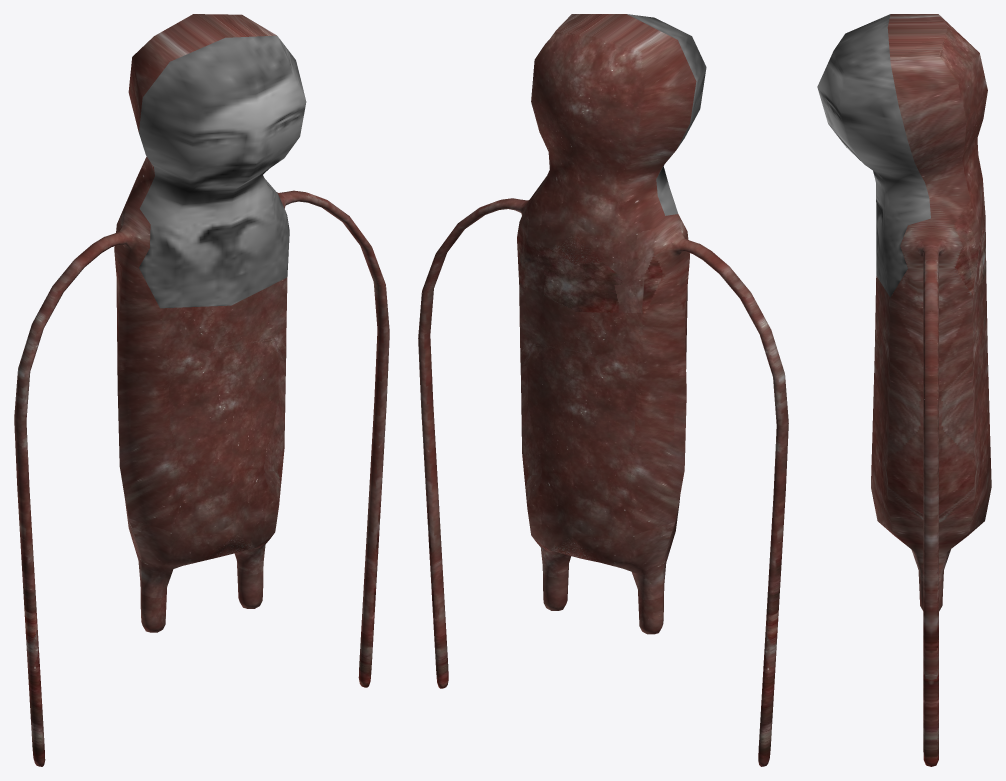
The model's file is монстр1v1.glb.
3 renders of one model, left to right at view 1: azimuth 30°, elevation 25°; view 2: azimuth 150°, elevation 25°; view 3: azimuth 270°, elevation 25°, orthographic. The views are drawn at different scales.
Parts seen in each view (by area): view 1: монстр1v1; view 2: монстр1v1; view 3: монстр1v1.
Boxes of the visible parts, box(x1,y1,x2,y2) form: монстр1v1: box(14, 14, 389, 766); монстр1v1: box(418, 14, 788, 766); монстр1v1: box(817, 14, 991, 766).
Size of the model in its own units: 1.32 by 2.4 by 0.5695.
2 materials, 2 textured.
